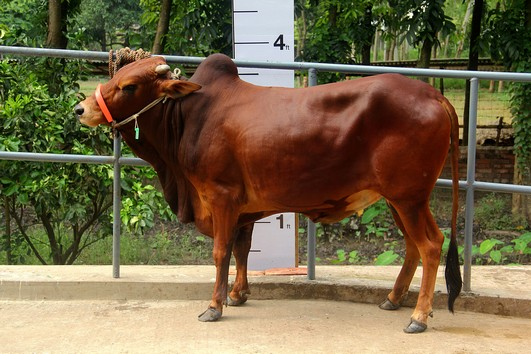cow: (68, 46, 470, 333)
